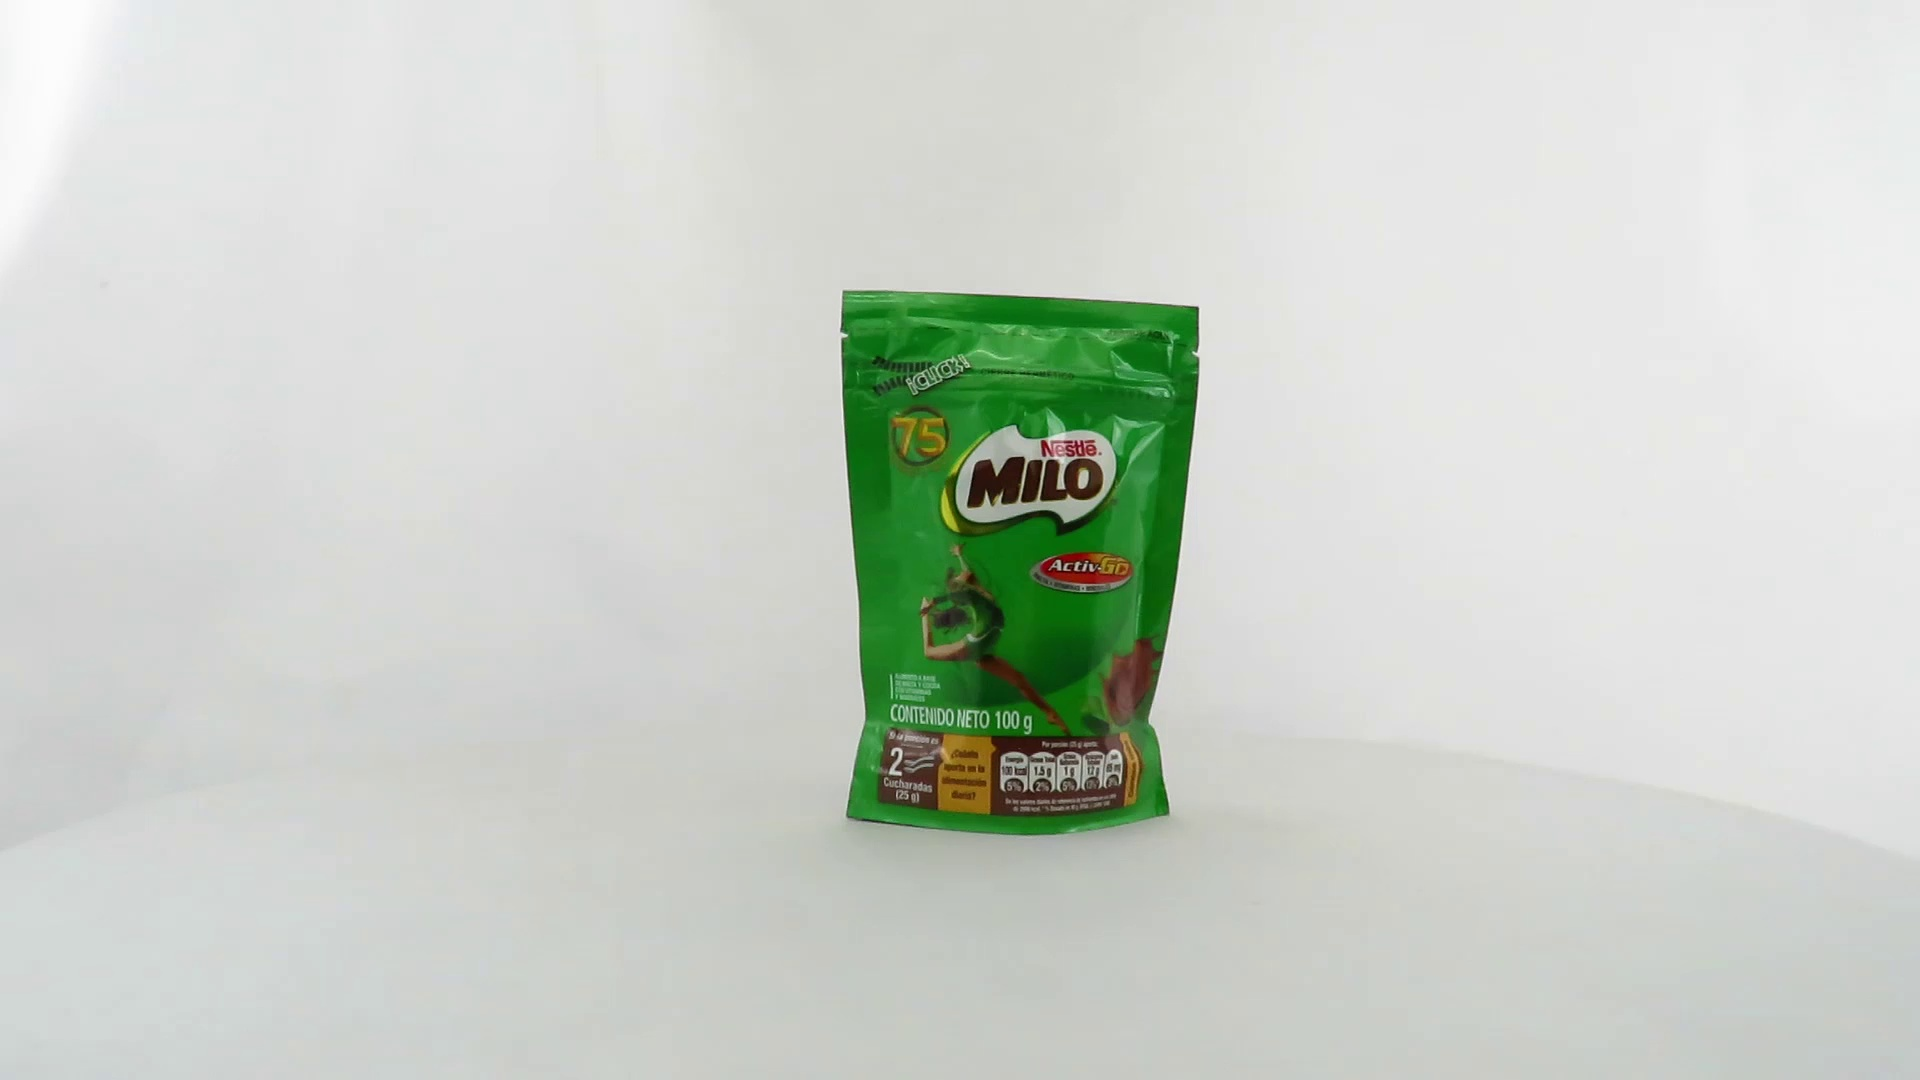COL0170203DYP10000: (835, 285, 1207, 843)
